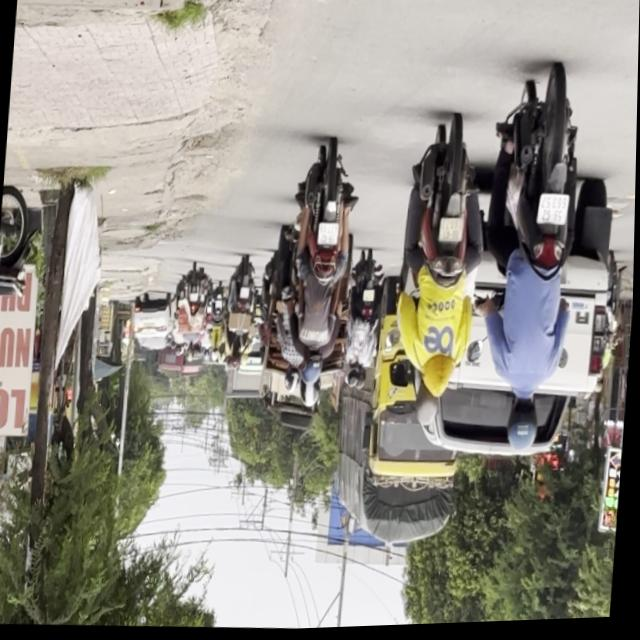helmet: (506, 397, 542, 461), (416, 384, 444, 430), (302, 350, 325, 387), (303, 381, 322, 411)
licenseplate: (470, 65, 591, 462), (388, 117, 492, 438), (279, 141, 363, 417)
nohelmet: (539, 198, 569, 229), (439, 219, 464, 246), (319, 225, 340, 248)
